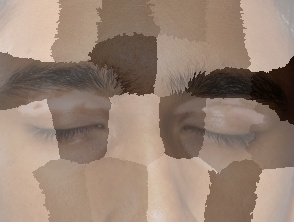vitiligo: (0, 43, 149, 181), (163, 83, 282, 158)
